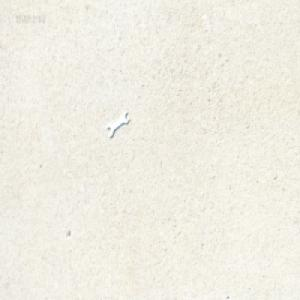Wrench: (106, 109, 128, 137)
